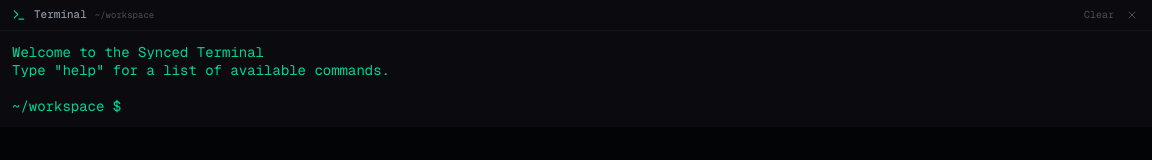
Test: TerminalPanel › shows error for unknown command
The image size is (1152, 160).
Type "unknowncmd" into the field.
click(631, 106); type("unknowncmd")  # box x1=121 y1=97 x2=1140 y2=115
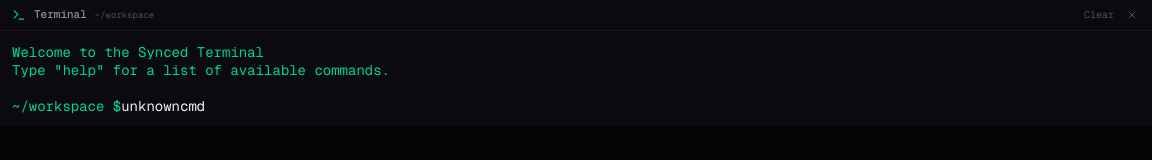
Press Enter in the field, box x1=121 y1=97 x2=1140 y2=115
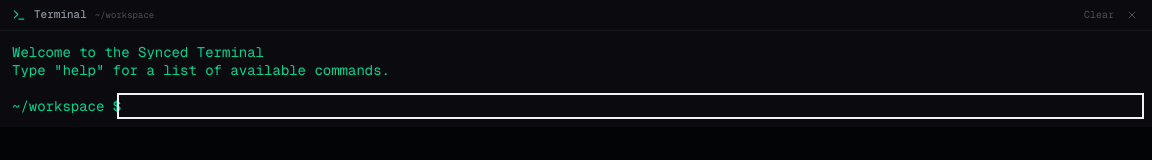
Result: the field is empty at x1=121 y1=97 x2=1140 y2=115
